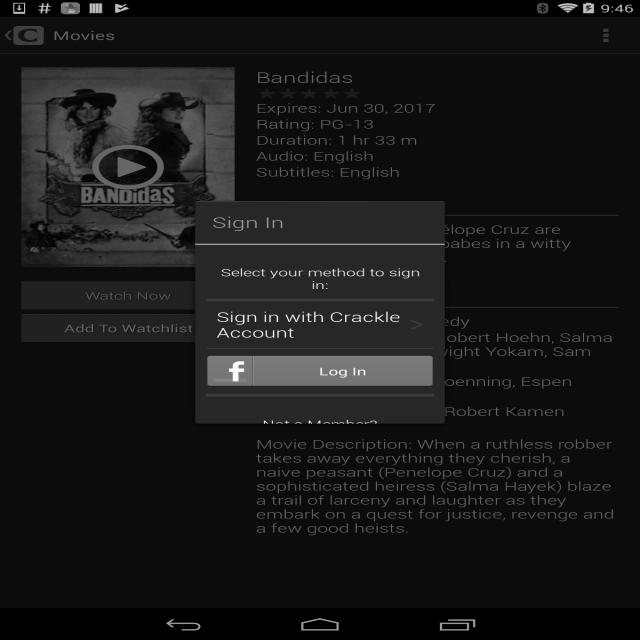Button: (203, 353, 439, 390), (12, 277, 195, 314)
ImageButton: (586, 27, 626, 46)
ImageView: (17, 67, 194, 262)
RatingBar: (251, 89, 368, 102)
TextView: (255, 437, 623, 521), (249, 106, 458, 184), (220, 262, 428, 281), (251, 70, 370, 86), (210, 215, 294, 233), (53, 27, 121, 44)
